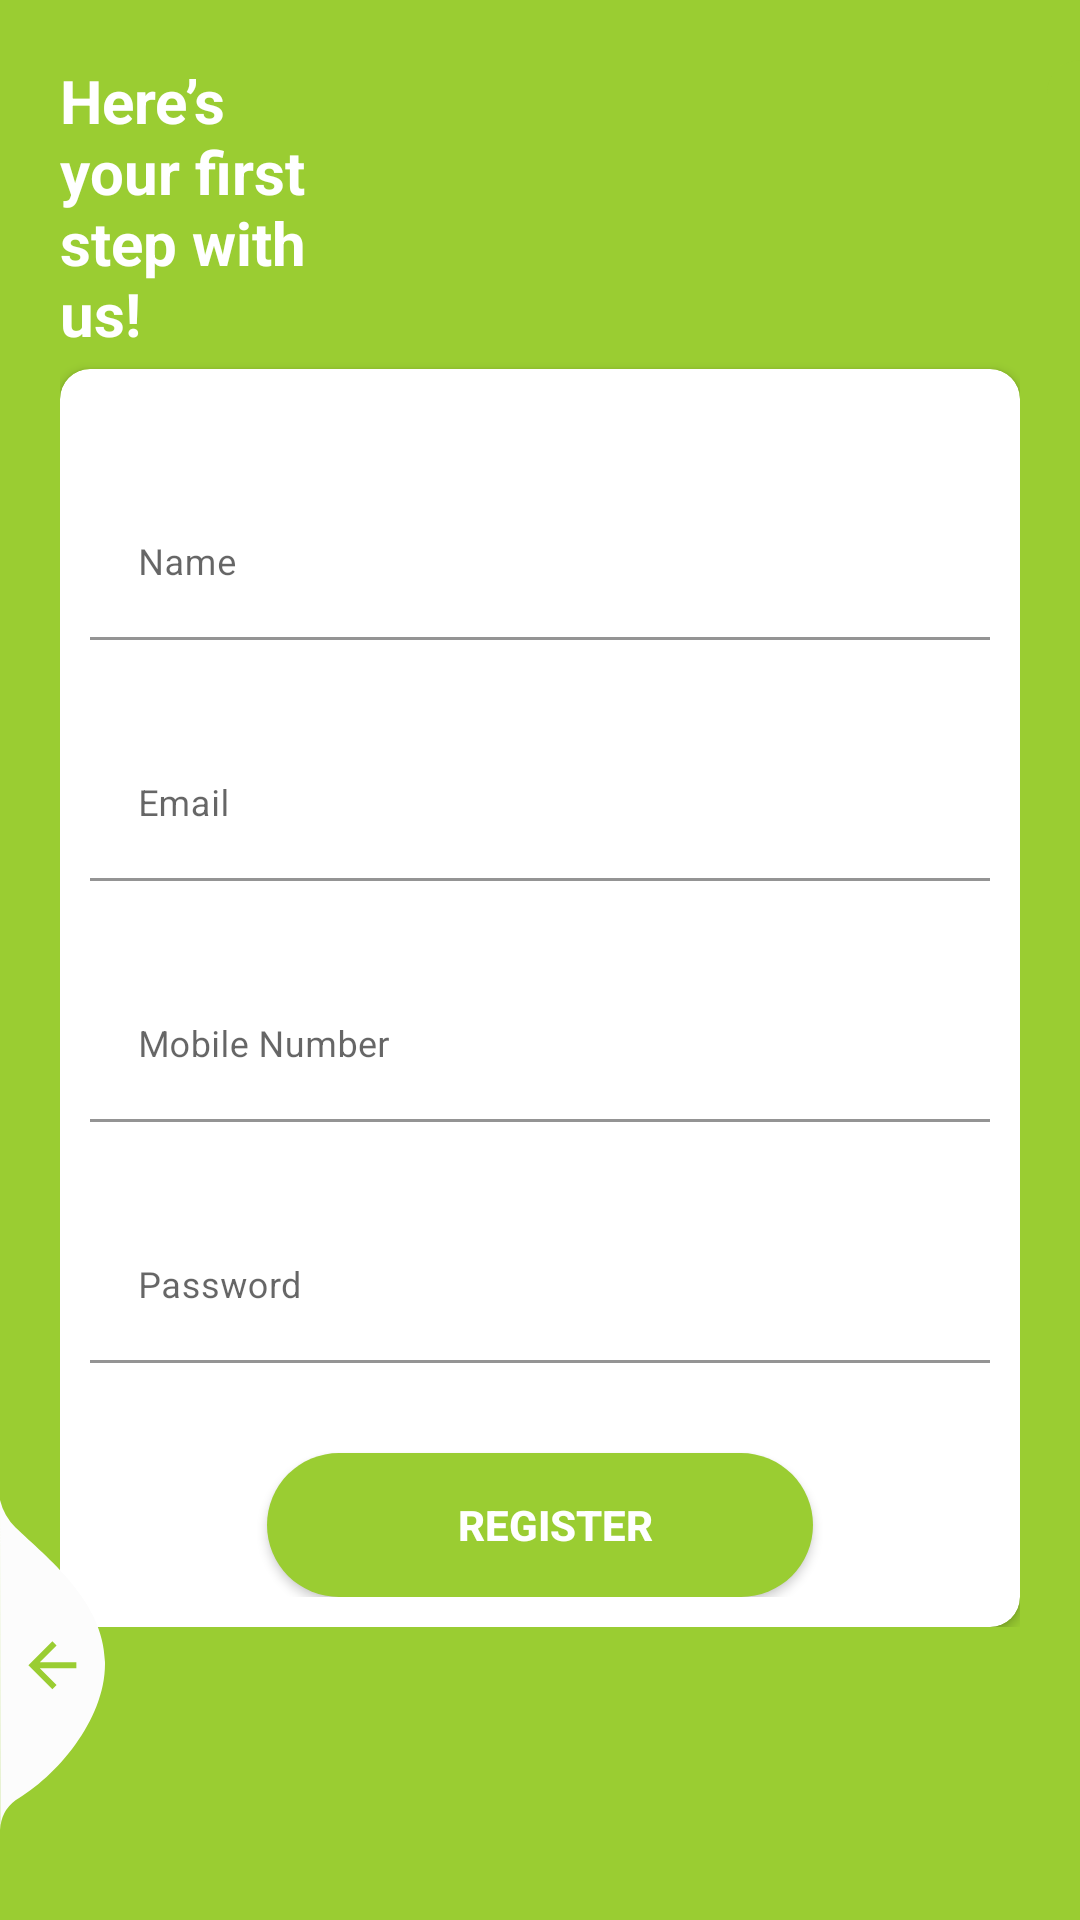

Screen size 1080px×1920px. Icon name, then its box in pixels as (x1, y1, x2, y2):
back: (0, 1500, 105, 1828)
